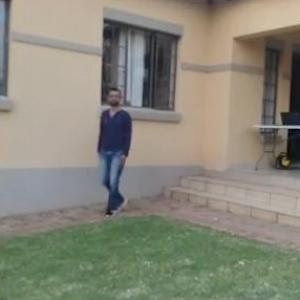follow: (100, 81, 142, 222)
